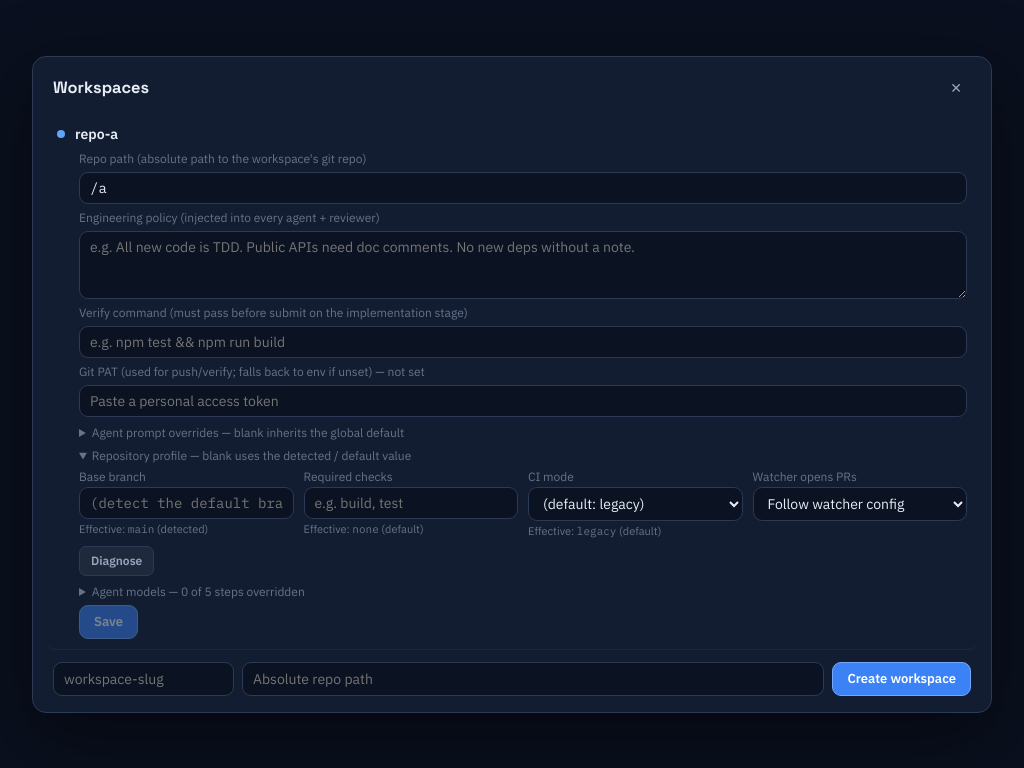
WorkspacesModal — repository profile › shows a diagnose error instead of results
Click the button "Diagnose": (117, 560) [79,546,154,576]
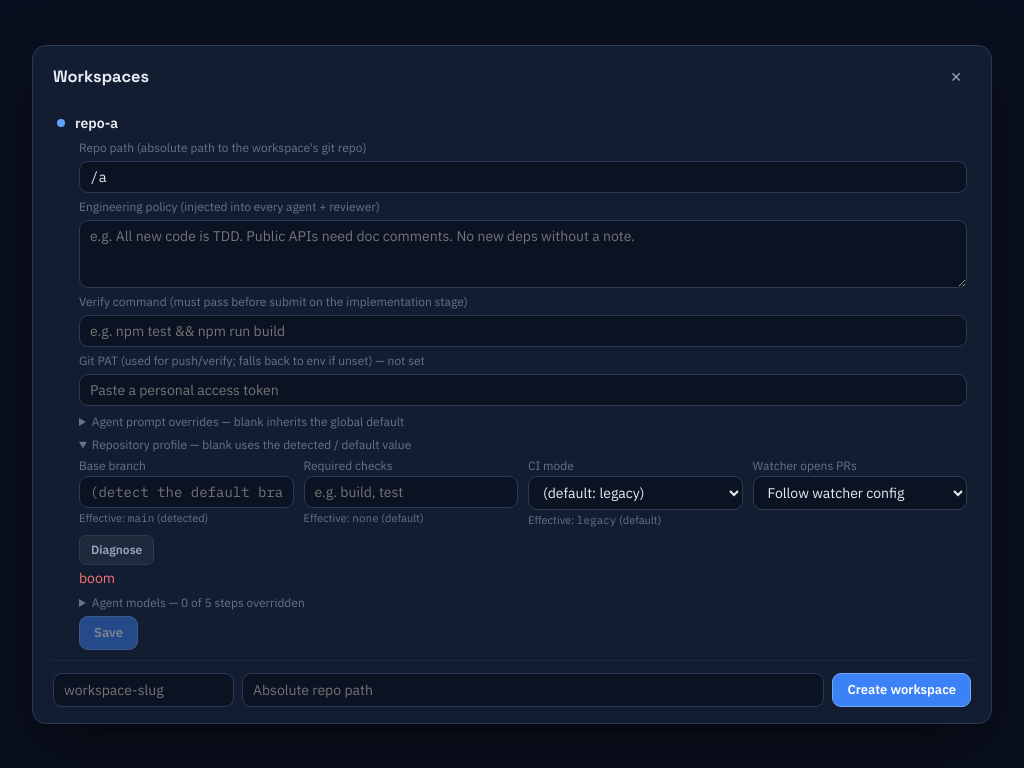
Now the text "boom" is shown, box [79,568,115,586]
